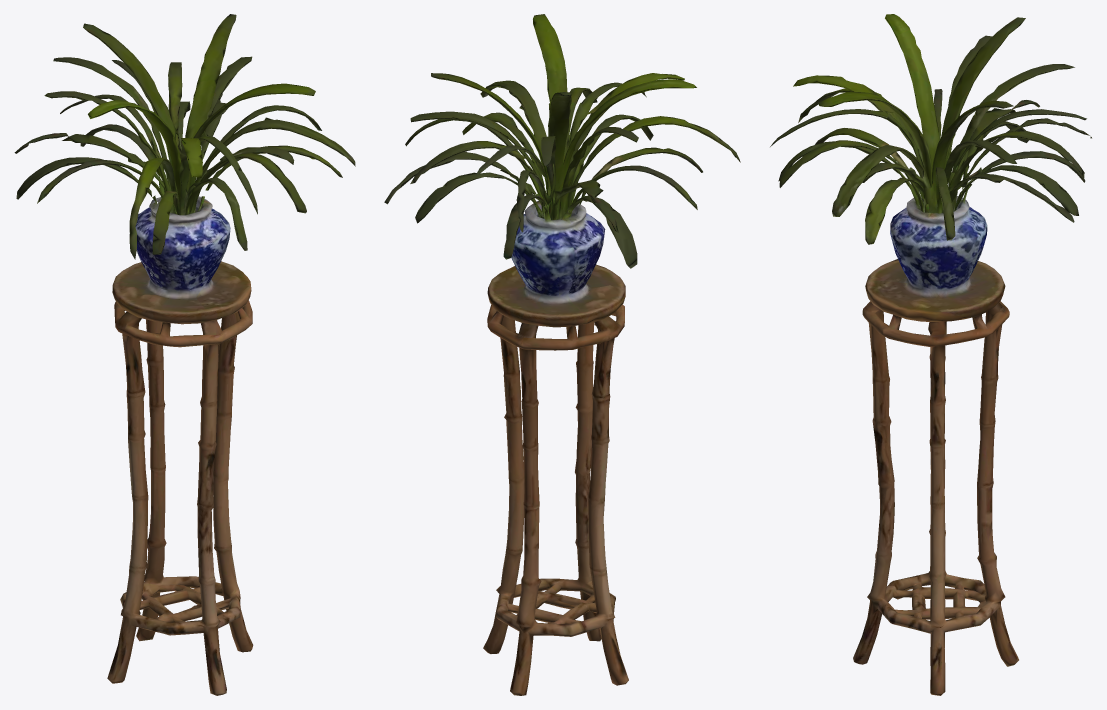
Rendered from huaji.glb.
The picture shows the model from 3 angles, left to right: view 1: azimuth 30°, elevation 25°; view 2: azimuth 150°, elevation 25°; view 3: azimuth 270°, elevation 25°; orthographic projection.
Parts seen in each view (by area): view 1: tripo_node_00641753-2139-4937-b6e6-5ba4c8d5544d; view 2: tripo_node_00641753-2139-4937-b6e6-5ba4c8d5544d; view 3: tripo_node_00641753-2139-4937-b6e6-5ba4c8d5544d.
Part boxes in pixels (x1=…): tripo_node_00641753-2139-4937-b6e6-5ba4c8d5544d: x1=14, y1=14, x2=355, y2=695; tripo_node_00641753-2139-4937-b6e6-5ba4c8d5544d: x1=384, y1=14, x2=740, y2=695; tripo_node_00641753-2139-4937-b6e6-5ba4c8d5544d: x1=770, y1=14, x2=1091, y2=695.
Bounding box in the file's own units: 0.4859 × 1 × 0.4718.
Materials: 1 (1 with a texture image).
